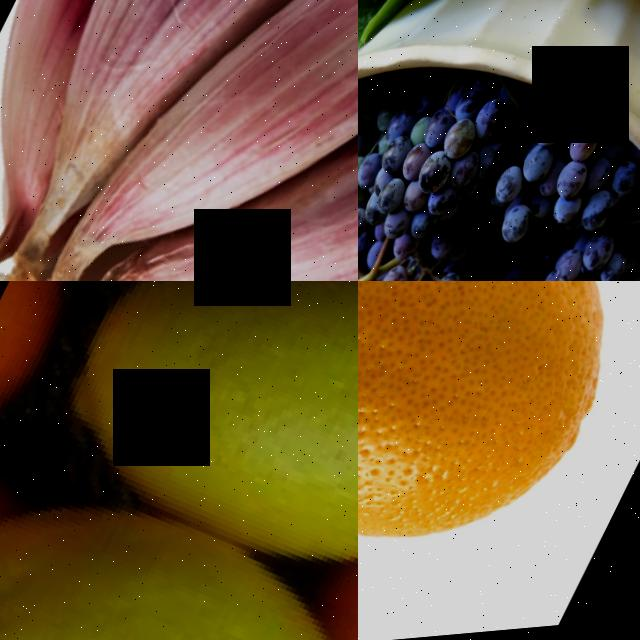garlic: (0, 0, 358, 281)
grapes: (358, 62, 525, 281), (473, 97, 640, 281), (358, 218, 523, 281), (495, 217, 640, 281)
lemon: (31, 281, 358, 640), (358, 281, 640, 640), (0, 418, 358, 640)
